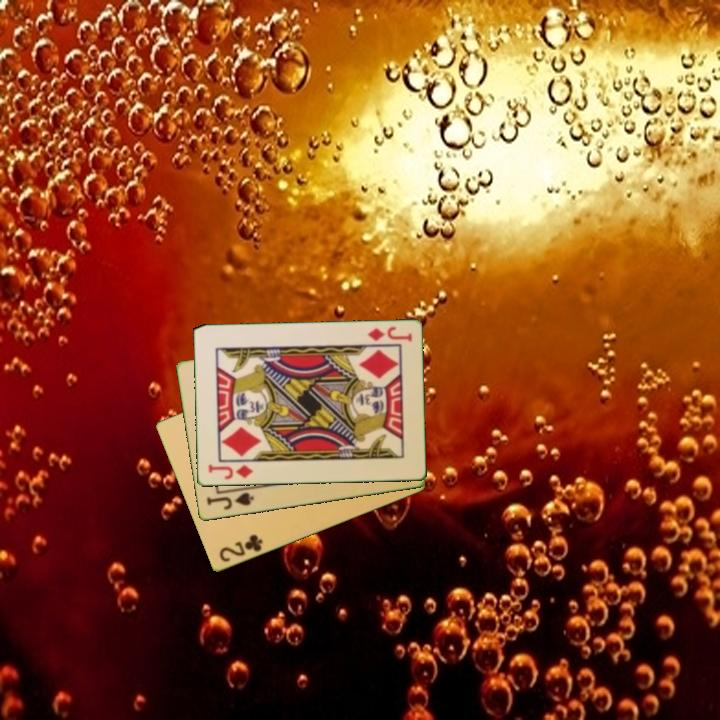2c: (215, 531, 266, 565)
Jd: (205, 461, 255, 482), (364, 324, 414, 345)
Js: (203, 489, 257, 513)
